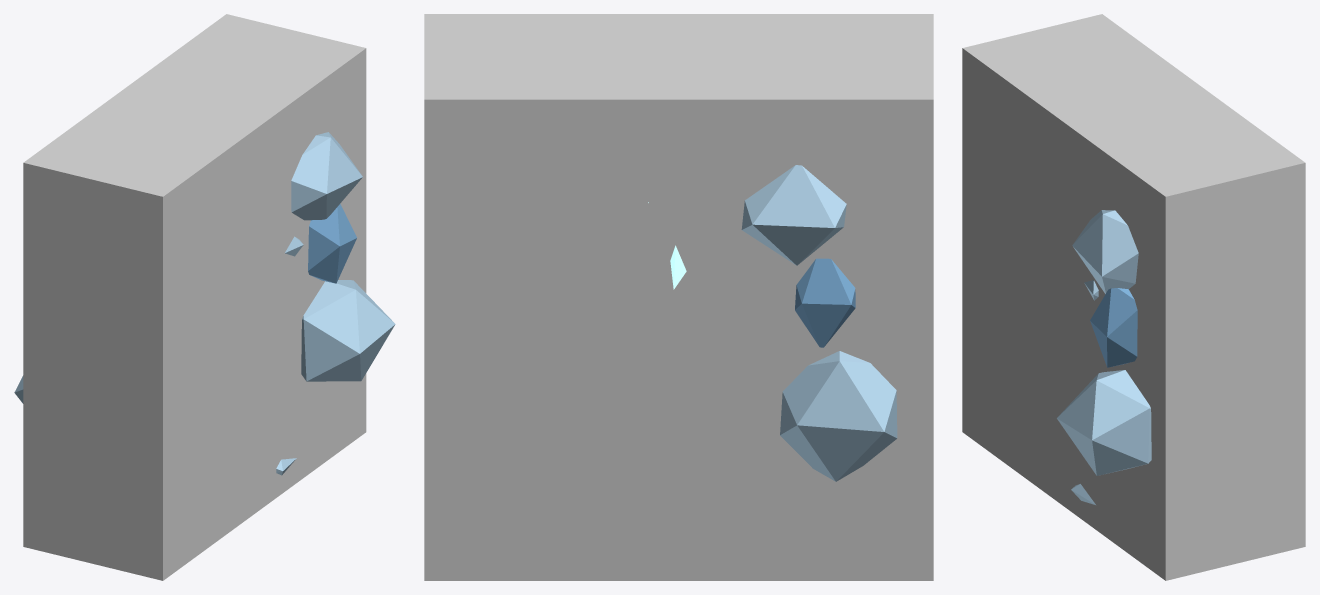
The model's file is tundra_frost_golem.fbx.
The picture shows the model from 3 angles, left to right: view 1: azimuth 30°, elevation 25°; view 2: azimuth 150°, elevation 25°; view 3: azimuth 270°, elevation 25°; orthographic projection. The views are drawn at different scales.
Parts seen in each view (by area): view 1: Root__0.02_4.50_0.20__8.63_9.00_3.43, ArmL__Body__-2.59_6.55_0.00, Body__Root__0.00_5.05_0.00; view 2: Root__0.02_4.50_0.20__8.63_9.00_3.43, ArmR__Body__2.59_6.55_0.00, Body__Root__0.00_5.05_0.00; view 3: Root__0.02_4.50_0.20__8.63_9.00_3.43, ArmL__Body__-2.59_6.55_0.00, Body__Root__0.00_5.05_0.00.
Boxes of the visible parts, x1,y1,x2,y2 form: Root__0.02_4.50_0.20__8.63_9.00_3.43: (23, 14, 366, 580); ArmL__Body__-2.59_6.55_0.00: (301, 204, 395, 381); Body__Root__0.00_5.05_0.00: (285, 132, 362, 256); Root__0.02_4.50_0.20__8.63_9.00_3.43: (424, 14, 933, 580); ArmR__Body__2.59_6.55_0.00: (780, 258, 897, 481); Body__Root__0.00_5.05_0.00: (741, 165, 846, 265); Root__0.02_4.50_0.20__8.63_9.00_3.43: (962, 14, 1305, 580); ArmL__Body__-2.59_6.55_0.00: (1057, 288, 1151, 475); Body__Root__0.00_5.05_0.00: (1072, 210, 1138, 300).
Bounding box in the file's own units: 257 × 252 × 204.
2 materials, 1 textured.
